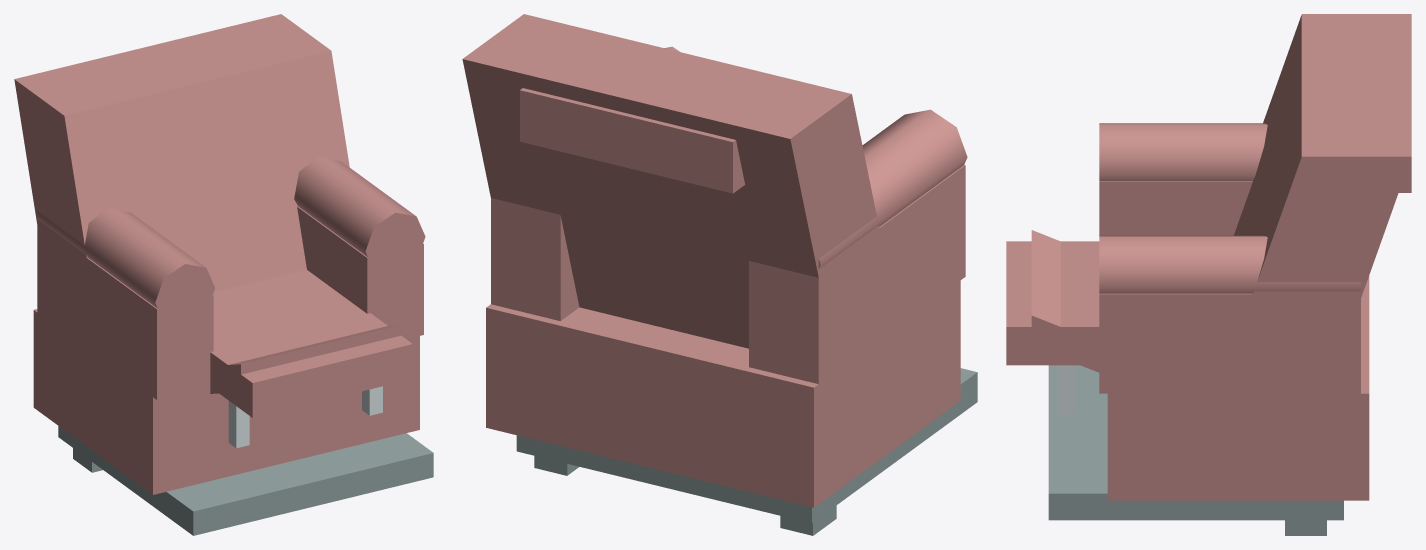
The model's file is reclinerLeather.glb.
3 views of the same model, side by side, from view 1: azimuth 30°, elevation 25°; view 2: azimuth 150°, elevation 25°; view 3: azimuth 270°, elevation 25° (orthographic). The views are drawn at different scales.
Parts seen in each view (by area): view 1: reclinerLeather; view 2: reclinerLeather; view 3: reclinerLeather.
Boxes of the visible parts, x1,y1,x2,y2 form: reclinerLeather: (14,14,433,535); reclinerLeather: (462,14,977,535); reclinerLeather: (1006,14,1411,535).
Size of the model in its own units: 0.405 by 0.51 by 0.48.
